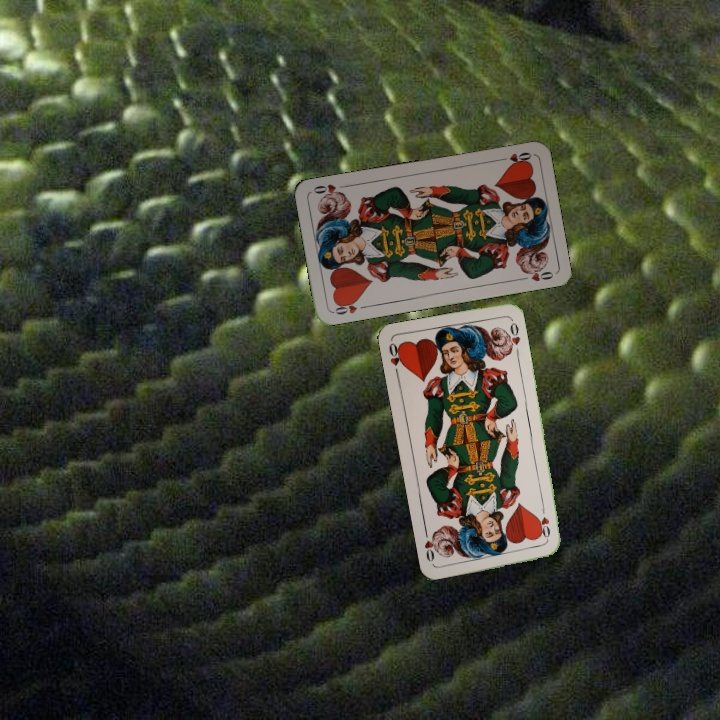HO: (329, 296, 370, 317), (385, 339, 406, 379), (494, 148, 534, 167), (537, 502, 553, 543)
